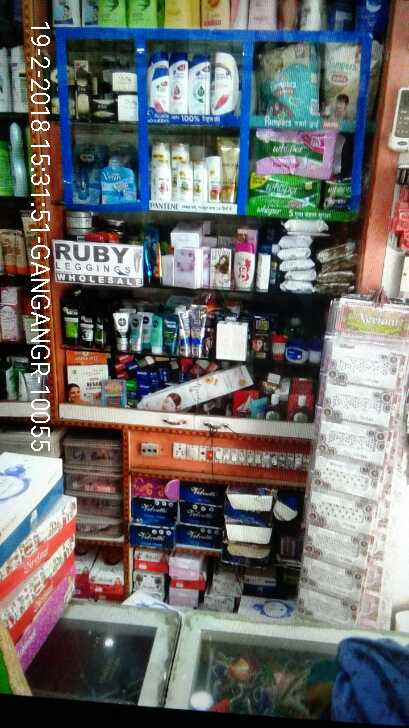venus: (75, 145, 102, 199), (102, 166, 136, 199)
